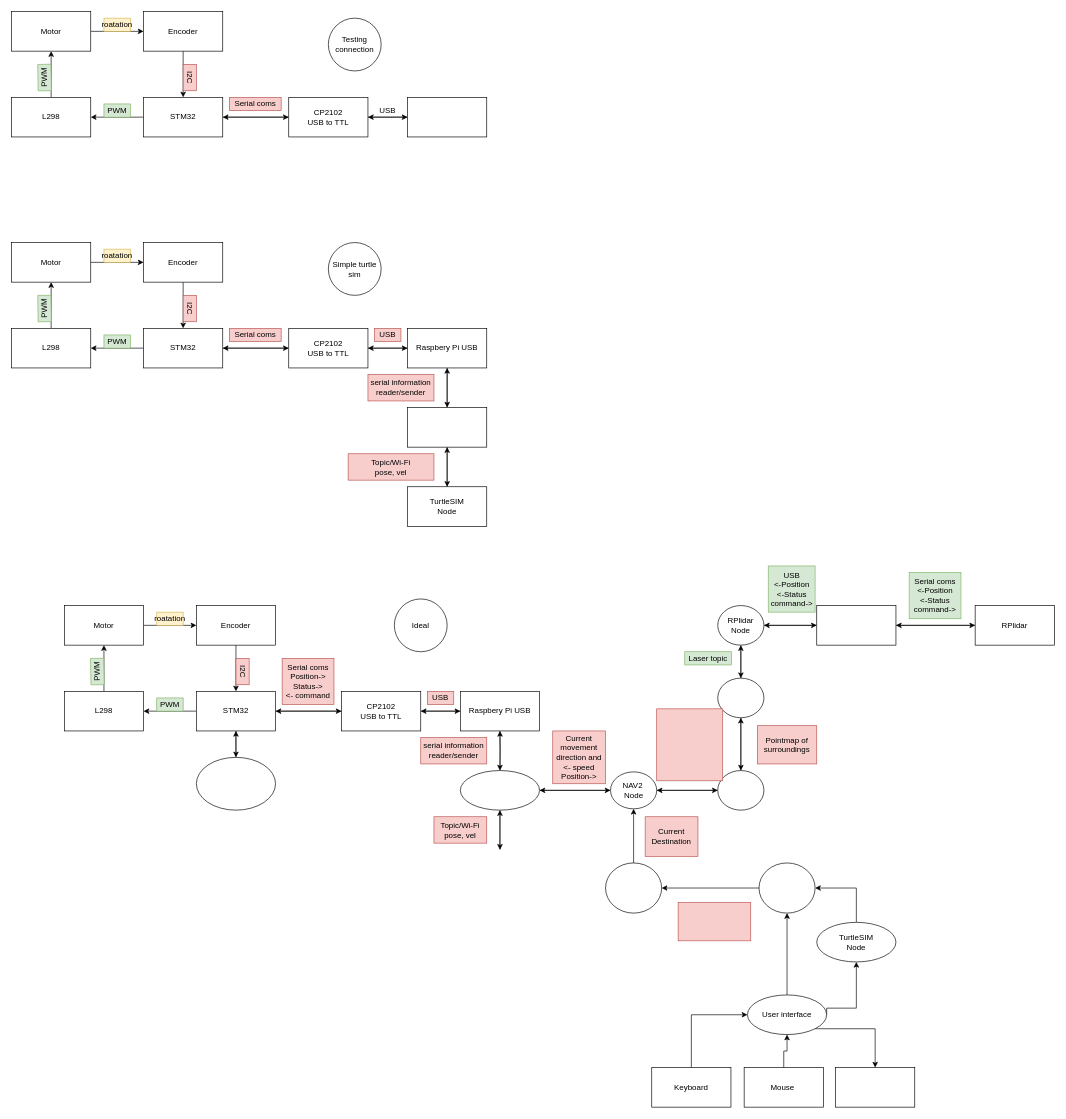
Image size: 1066x1119. Some labels were removed from this diagram. The box of each missing label's shape, as (x1, y1, x2, y2) in pixels:
Drawing the map/ Automatic oper/ Manual operation: (677, 902, 751, 941)
Feedback control Algorithm: (196, 757, 276, 810)
Interfacing Node: (407, 407, 487, 447)
Map of the <- surroundings position-> Mapper status->: (656, 708, 723, 781)
movement interface Node: (460, 770, 540, 810)
Process state Node: (758, 862, 815, 913)
RVIZ Node: (717, 677, 764, 718)
Screen: (835, 1067, 915, 1107)
Serial monitor on computer: (407, 97, 487, 137)
SLAM Node: (717, 770, 764, 810)
Task scheduler Node: (605, 862, 662, 913)
USB to TTL: (816, 605, 896, 645)
